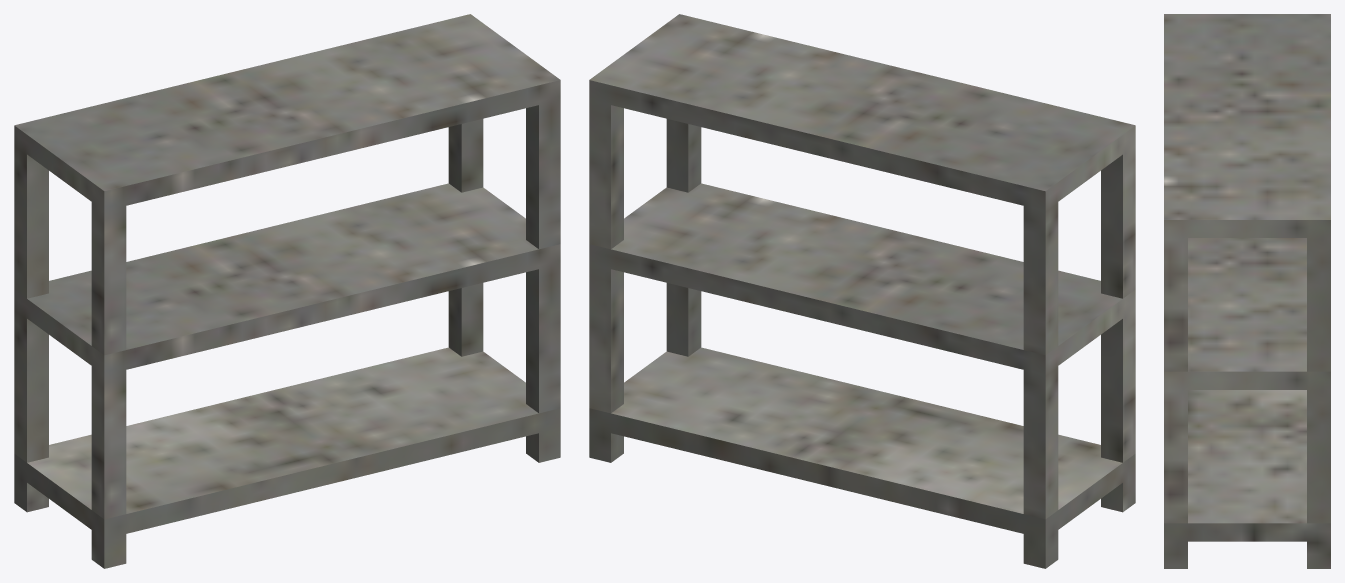
The model's file is stands-small.fbx.
3 renders of one model, left to right at view 1: azimuth 30°, elevation 25°; view 2: azimuth 150°, elevation 25°; view 3: azimuth 270°, elevation 25°, orthographic. The views are drawn at different scales.
Visible parts, largest first — view 1: Cube.051, Cube.050, Cube.049; view 2: Cube.051, Cube.050, Cube.049; view 3: Cube.051, Cube.050, Cube.049.
Boxes of the visible parts, <box> form: Cube.051: <box>14,14,560,355</box>; Cube.050: <box>14,183,560,519</box>; Cube.049: <box>14,347,560,568</box>; Cube.051: <box>589,14,1135,355</box>; Cube.050: <box>589,183,1135,519</box>; Cube.049: <box>589,347,1135,568</box>; Cube.051: <box>1164,14,1330,371</box>; Cube.050: <box>1164,238,1330,523</box>; Cube.049: <box>1164,390,1330,568</box>.
Size of the model in its own units: 86.18 by 68.16 by 29.5.
